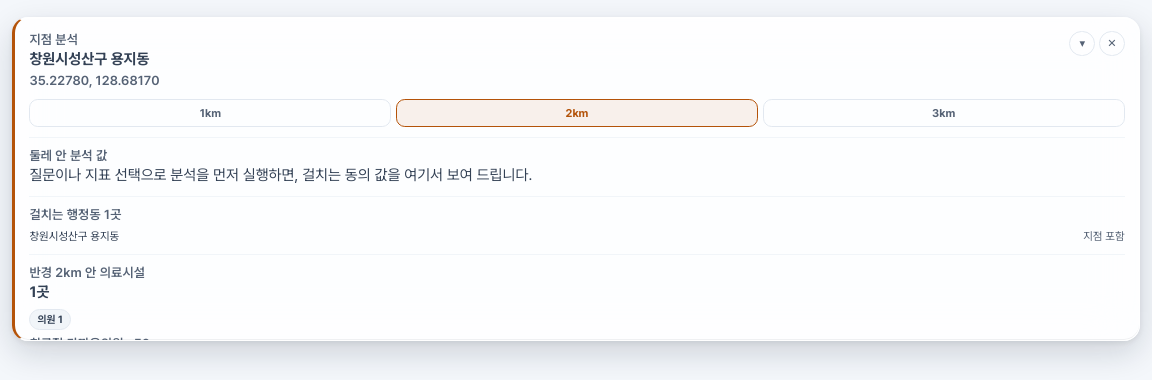
Scenario: 지점 분석 카드 접기 › 다시 펼칠 수 있다
Click the button with test id "probe-collapse" at (1082, 44), box [1069, 31, 1095, 56]
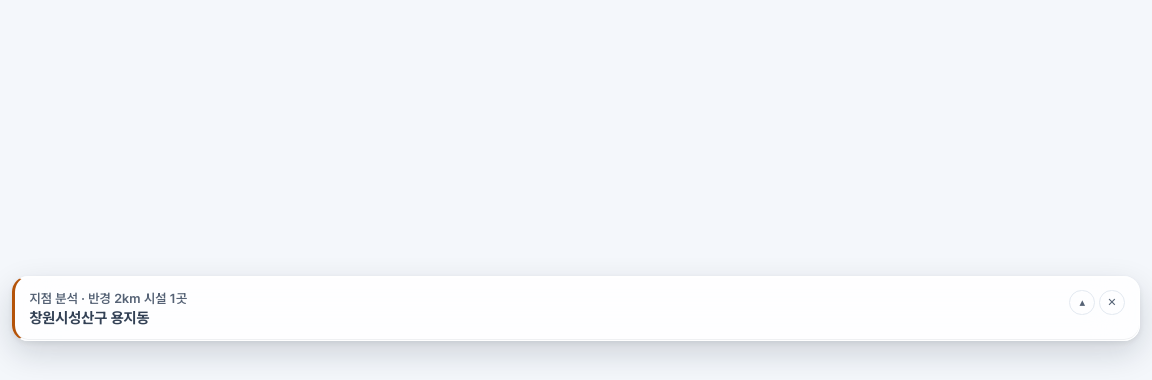
Result: the button with test id "probe-collapse" is collapsed
Click the button with test id "probe-collapse" at (1082, 302), box [1069, 290, 1095, 315]
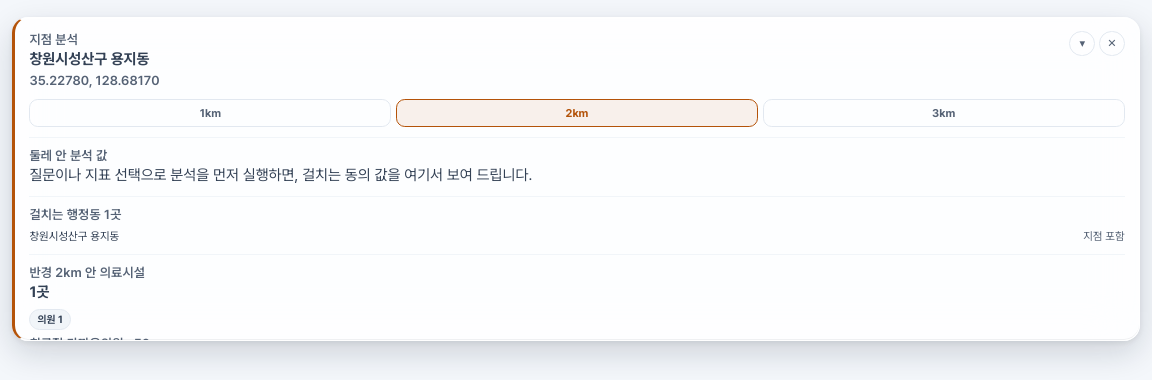
Result: the text "걸치는 행정동 1곳" is shown at [29, 207, 122, 222]
